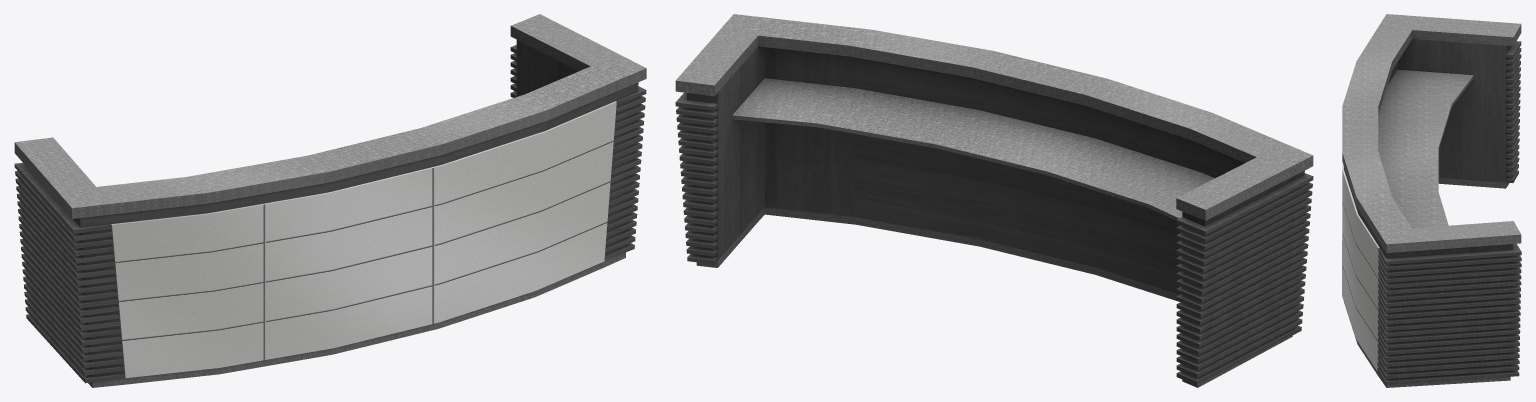
Rendered from Infodesk.gltf.
3 views of the same model, side by side, from view 1: azimuth 30°, elevation 25°; view 2: azimuth 150°, elevation 25°; view 3: azimuth 270°, elevation 25° (orthographic). The views are drawn at different scales.
Parts seen in each view (by area): view 1: Infodesk; view 2: Infodesk; view 3: Infodesk.
Boxes of the visible parts, box(x1,y1,x2,y2) form: Infodesk: box(14, 14, 646, 387); Infodesk: box(675, 14, 1313, 387); Infodesk: box(1342, 14, 1521, 387).
Bounding box in the file's own units: 35.07 × 10.78 × 11.56.
Materials: 1 (1 with a texture image).
